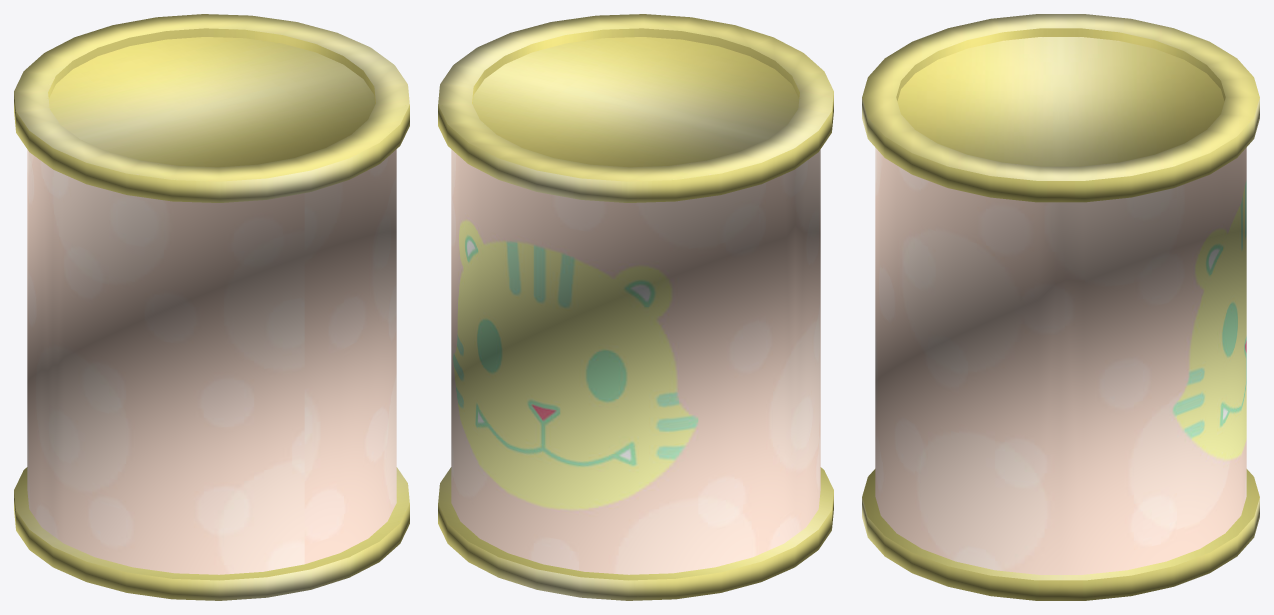
File: Jar5.glb
3 renders of one model, left to right at view 1: azimuth 30°, elevation 25°; view 2: azimuth 150°, elevation 25°; view 3: azimuth 270°, elevation 25°, orthographic.
Visible parts, largest first — view 1: jar; view 2: jar; view 3: jar.
Boxes of the visible parts, bbox=[...] form: jar: bbox=[14, 14, 409, 600]; jar: bbox=[438, 14, 833, 600]; jar: bbox=[862, 14, 1259, 600].
Size of the model in its own units: 1.33 by 1.56 by 1.34.
1 material, 1 textured.
